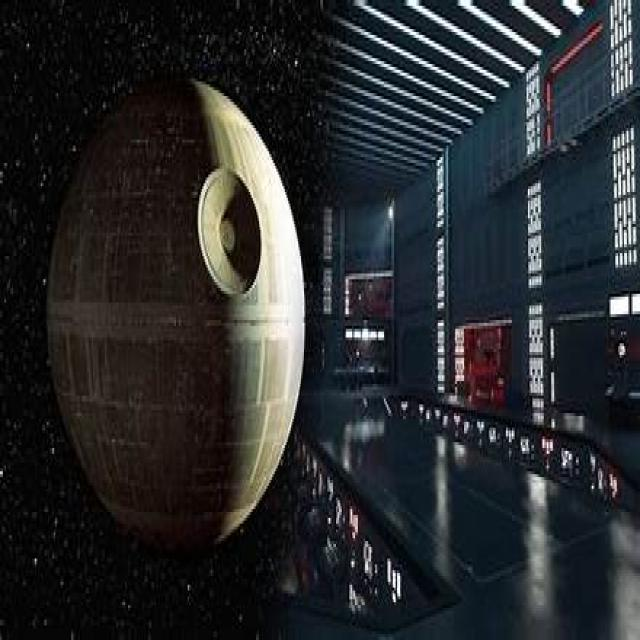deathStar: (48, 83, 308, 554)
